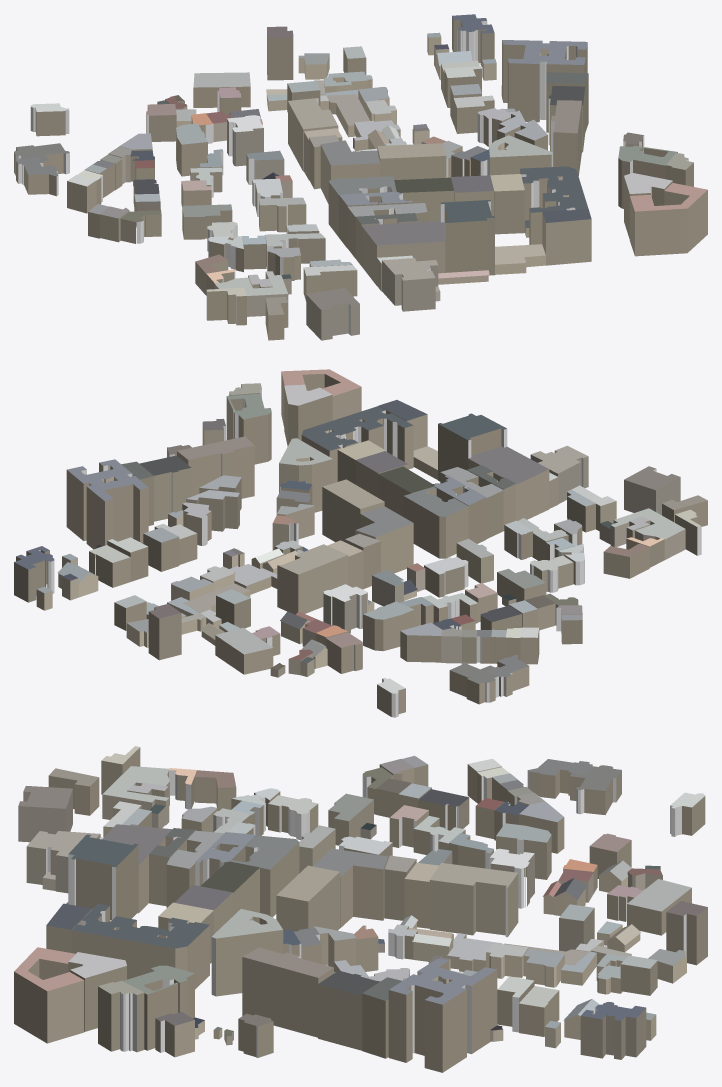
3 views of the same model, one above another, from view 1: azimuth 30°, elevation 25°; view 2: azimuth 150°, elevation 25°; view 3: azimuth 270°, elevation 25° (orthographic). The views are drawn at different scales.
Visible parts, largest first — view 1: tuile; view 2: tuile; view 3: tuile.
Boxes of the visible parts, x1=… form: tuile: x1=14, y1=14, x2=707, y2=340; tuile: x1=14, y1=369, x2=707, y2=717; tuile: x1=14, y1=746, x2=707, y2=1072.
Bounding box in the file's own units: 270 × 32.5 × 269.
